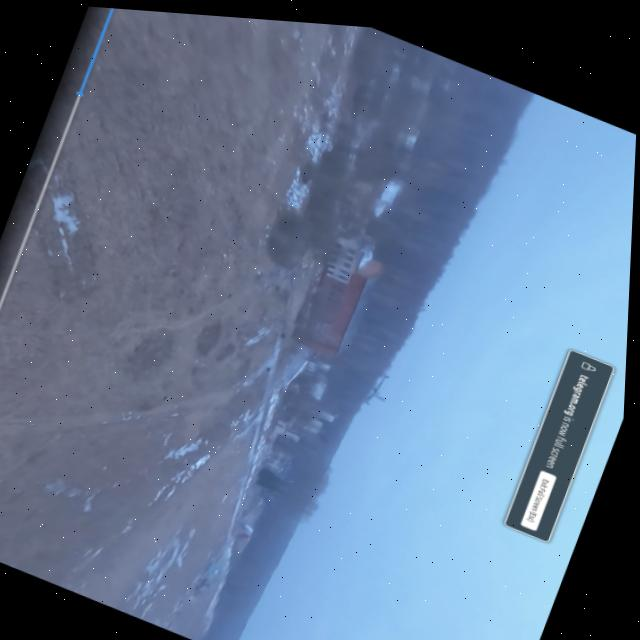planedrone: (360, 361, 405, 417)
